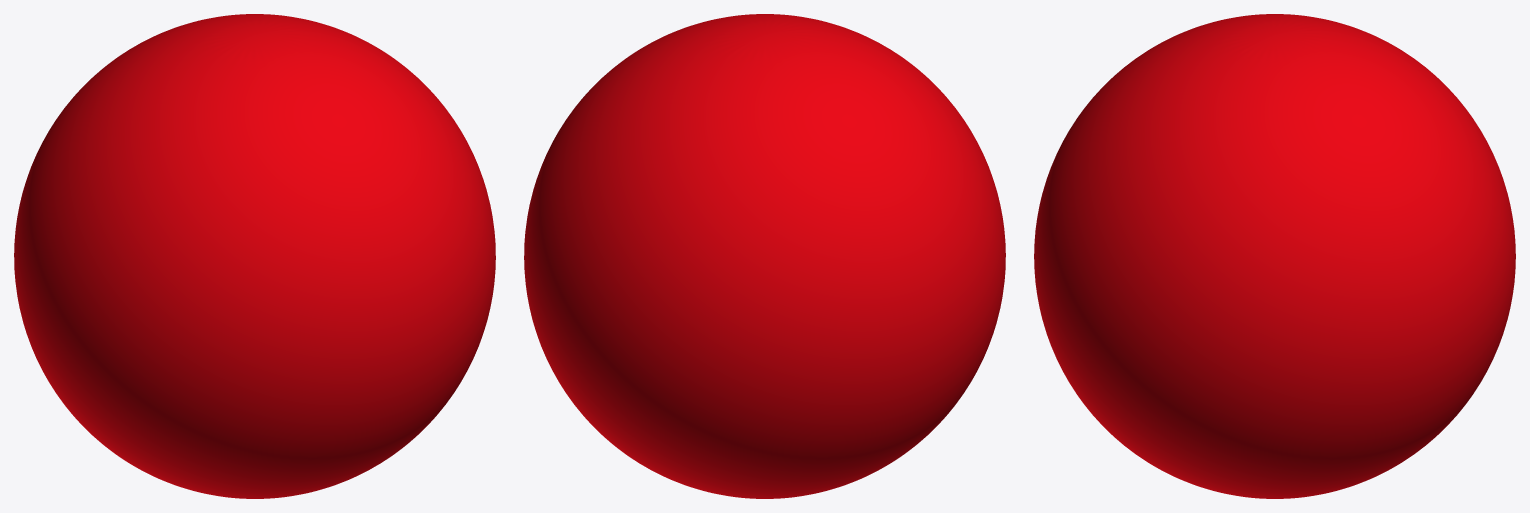
The model's file is cronopios.glb.
3 renders of one model, left to right at view 1: azimuth 30°, elevation 25°; view 2: azimuth 150°, elevation 25°; view 3: azimuth 270°, elevation 25°, orthographic.
Parts seen in each view (by area): view 1: Esfera; view 2: Esfera; view 3: Esfera.
Boxes of the visible parts, bbox=[...] form: Esfera: bbox=[14, 14, 495, 498]; Esfera: bbox=[524, 14, 1005, 498]; Esfera: bbox=[1034, 14, 1515, 498].
Bounding box in the file's own units: 0.9774 × 0.9894 × 0.9774.
